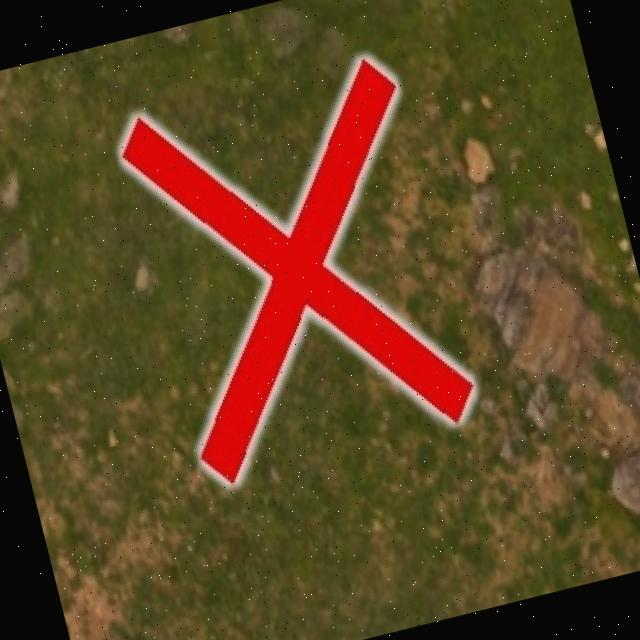x_marker: (112, 52, 480, 488)
